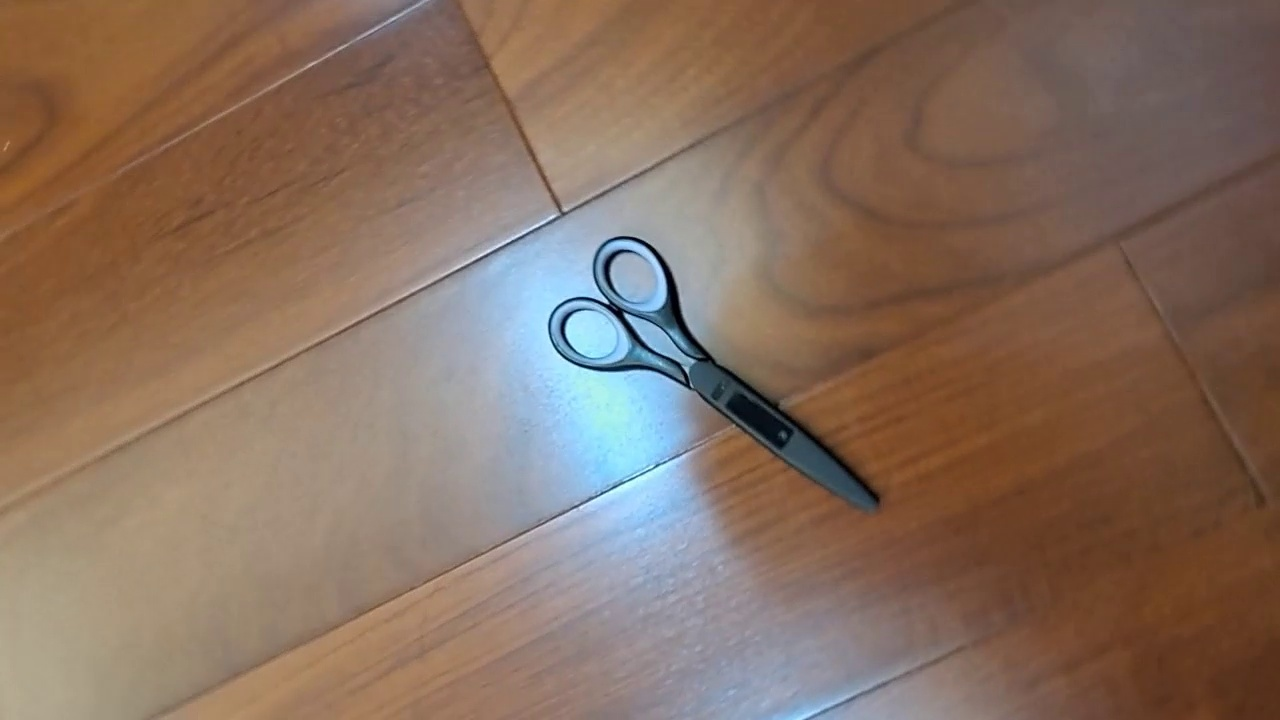scissors: (547, 234, 882, 516)
